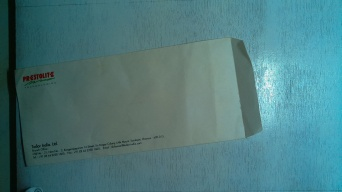l: (16, 38, 265, 171)
